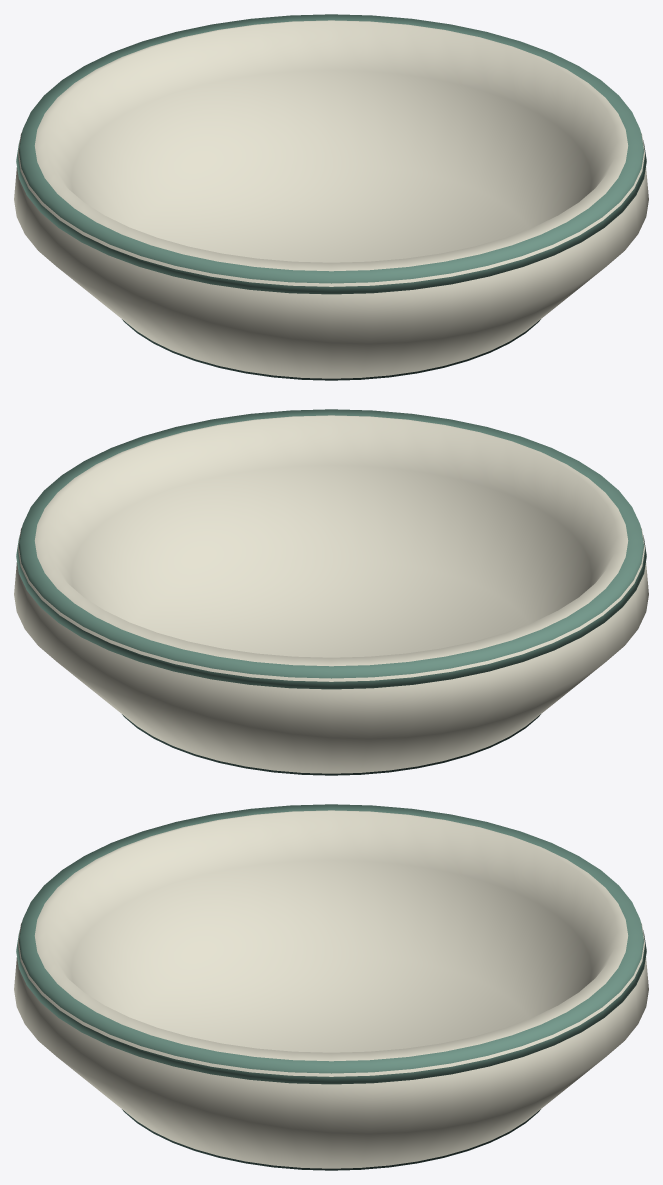
The model's file is pet_bowl.glb.
3 views of the same model, one above another, from view 1: azimuth 30°, elevation 25°; view 2: azimuth 150°, elevation 25°; view 3: azimuth 270°, elevation 25° (orthographic).
Visible parts, largest first — view 1: pet_bowl; view 2: pet_bowl; view 3: pet_bowl.
Part boxes in pixels (box(x1,y1,x2,y2)): pet_bowl: box(14, 14, 648, 380); pet_bowl: box(14, 409, 648, 775); pet_bowl: box(14, 804, 648, 1170).
Bounding box in the file's own units: 0.3 × 0.075 × 0.3.
